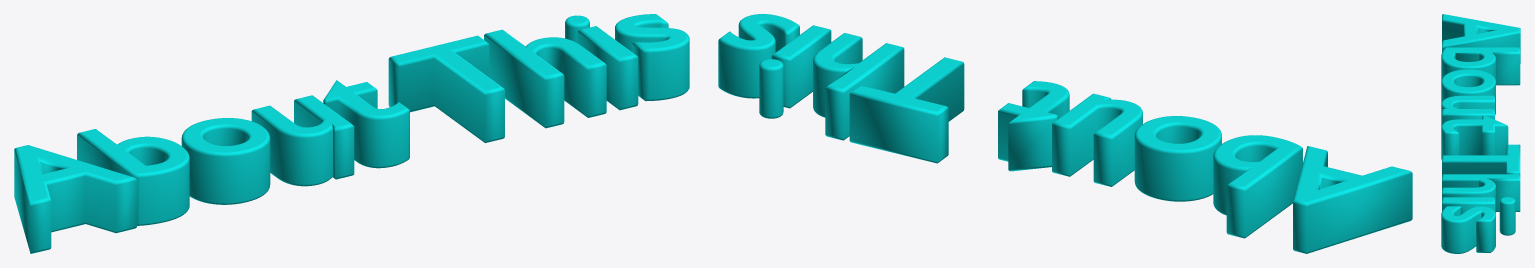
The model's file is Text_this.glb.
The picture shows the model from 3 angles, left to right: view 1: azimuth 30°, elevation 25°; view 2: azimuth 150°, elevation 25°; view 3: azimuth 270°, elevation 25°; orthographic projection. The views are drawn at different scales.
Visible parts, largest first — view 1: Text; view 2: Text; view 3: Text.
Boxes of the visible parts, box(x1,y1,x2,y2) form: Text: box(14, 14, 689, 253); Text: box(718, 14, 1412, 253); Text: box(1441, 14, 1520, 253).
Size of the model in its own units: 4.55 by 0.34 by 0.735.
